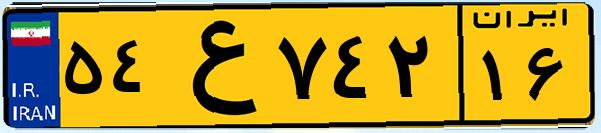1: (475, 38, 525, 113)
2: (385, 28, 445, 110)
4: (330, 28, 385, 110), (110, 28, 158, 98)
5: (57, 26, 110, 100)
6: (525, 38, 570, 115)
7: (270, 28, 330, 110)
ع: (158, 12, 270, 120)
